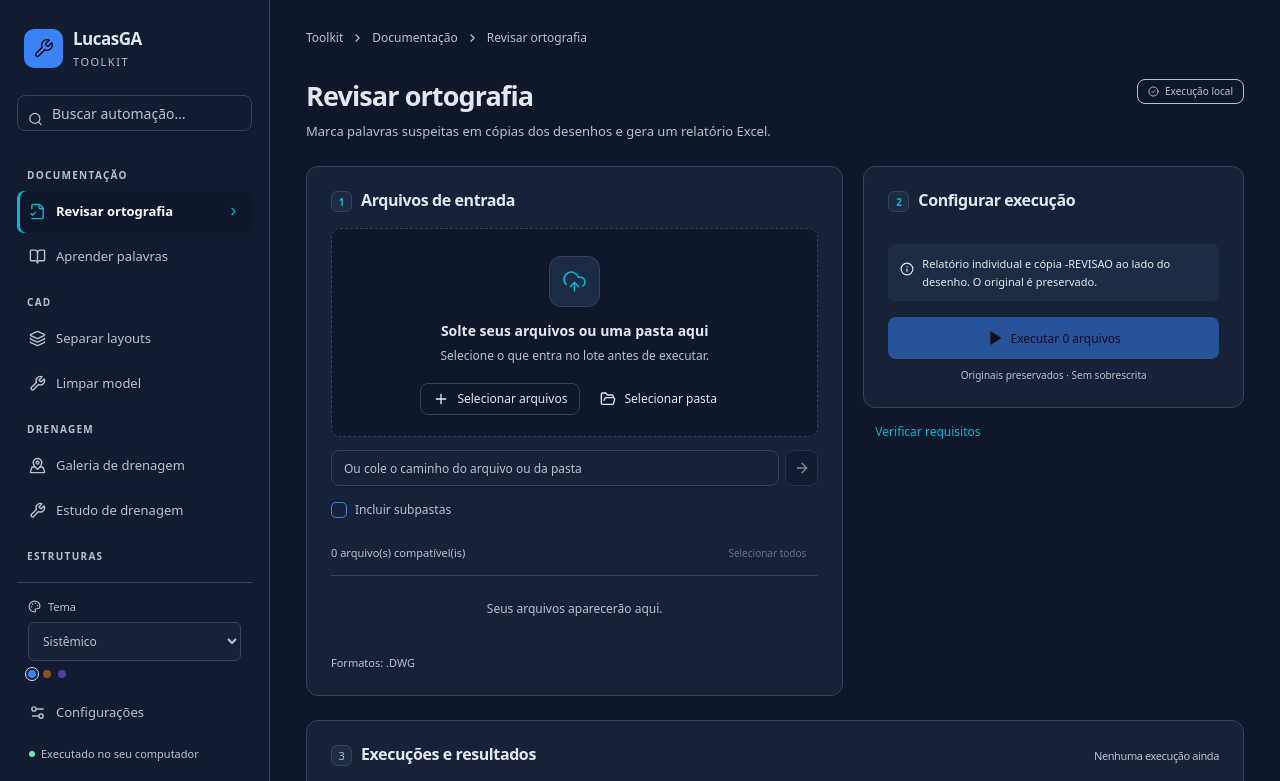
Scenario: pasta mostra compatíveis, permite escolher e envia somente a seleção
Click the button "Selecionar pasta". click: (659, 399)
box: x1=588 y1=383 x2=729 y2=415
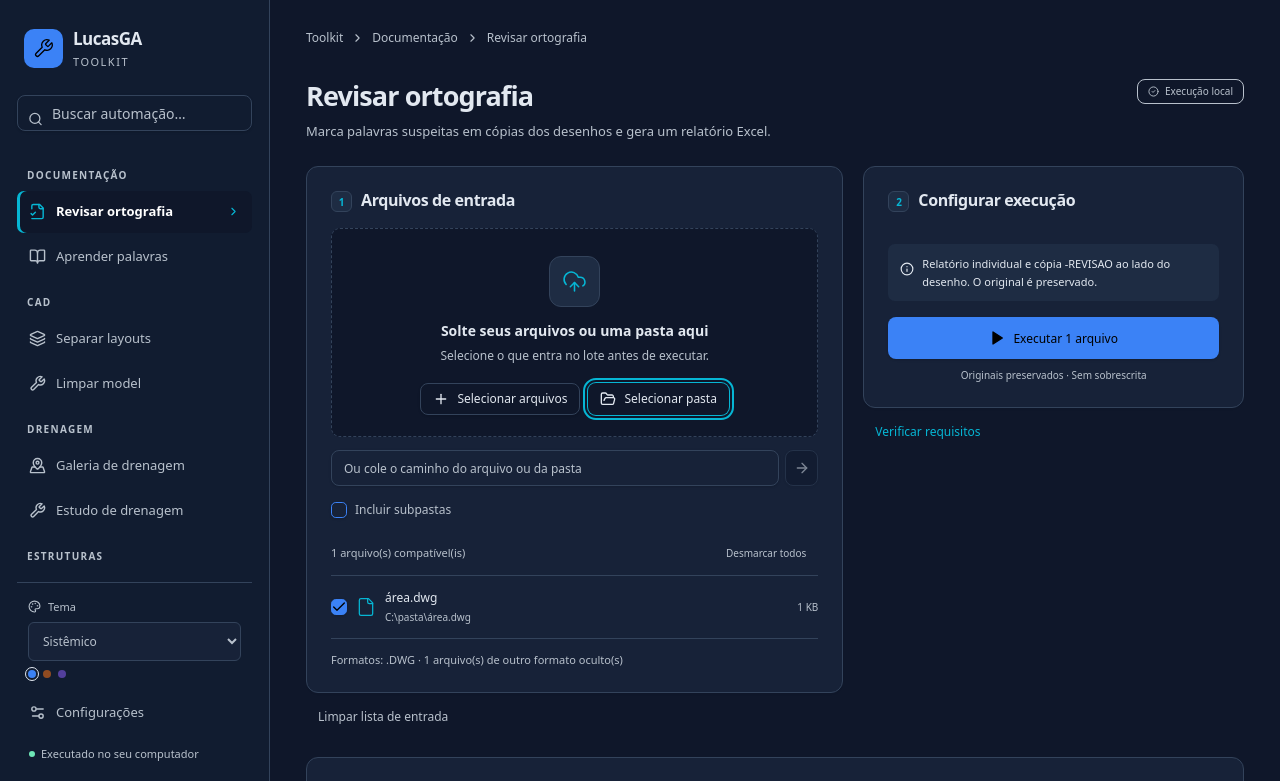
expect the text "área.dwg" is shown: met, box x1=385 y1=589 x2=437 y2=606
Select "Criativo" in the dropdown labelled "Tema". click: (134, 642)
box: x1=28 y1=622 x2=241 y2=661
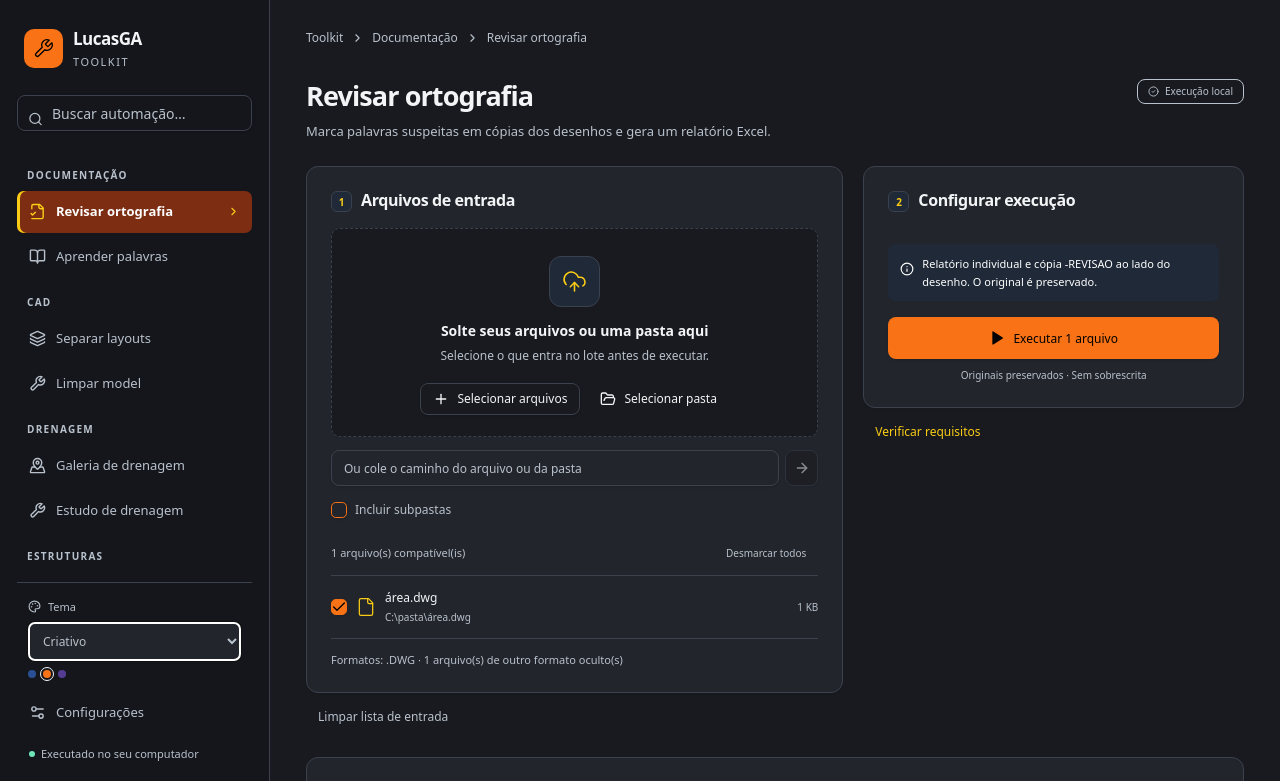
expect the text "área.dwg" is shown: met, box x1=385 y1=589 x2=437 y2=606
Click the button "Executar 1 arquivo". click: (1054, 338)
box: x1=888 y1=317 x2=1219 y2=359
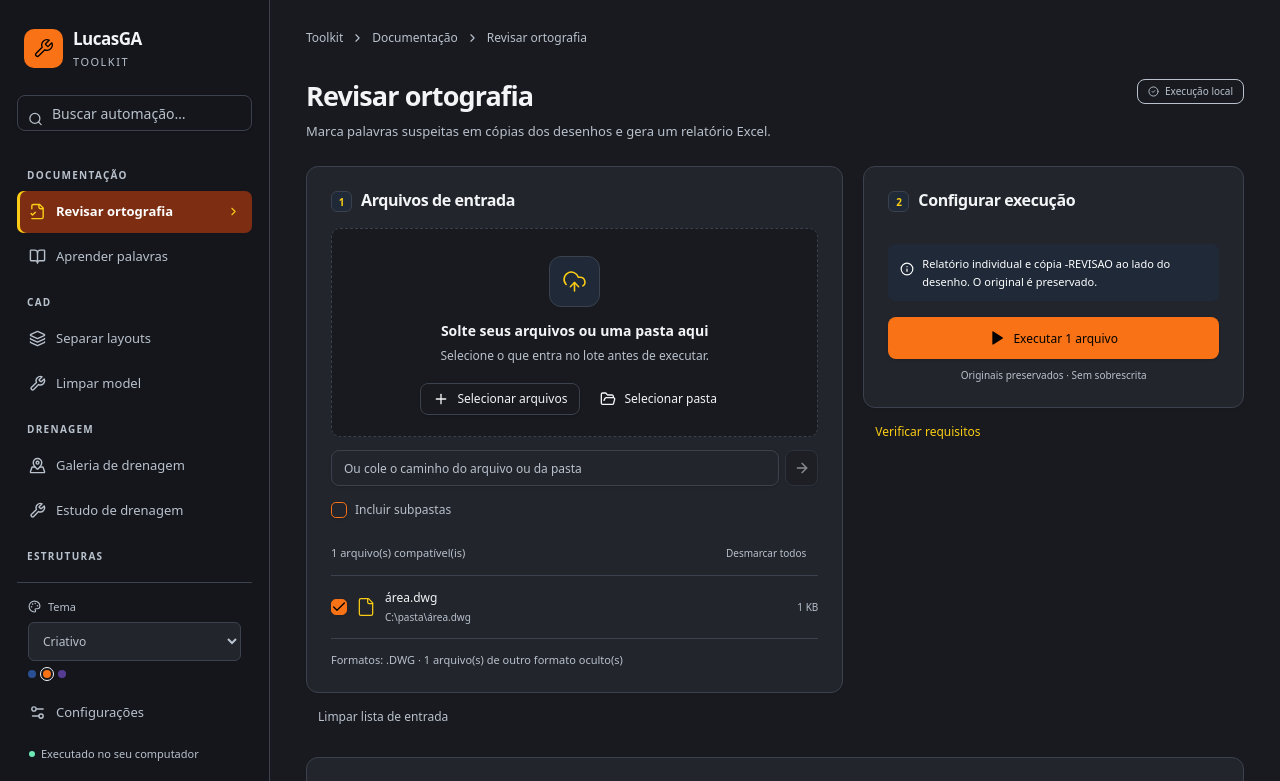
Click the checkbox named "Selecionar área.dwg". click: (339, 607)
box: x1=331 y1=599 x2=347 y2=615
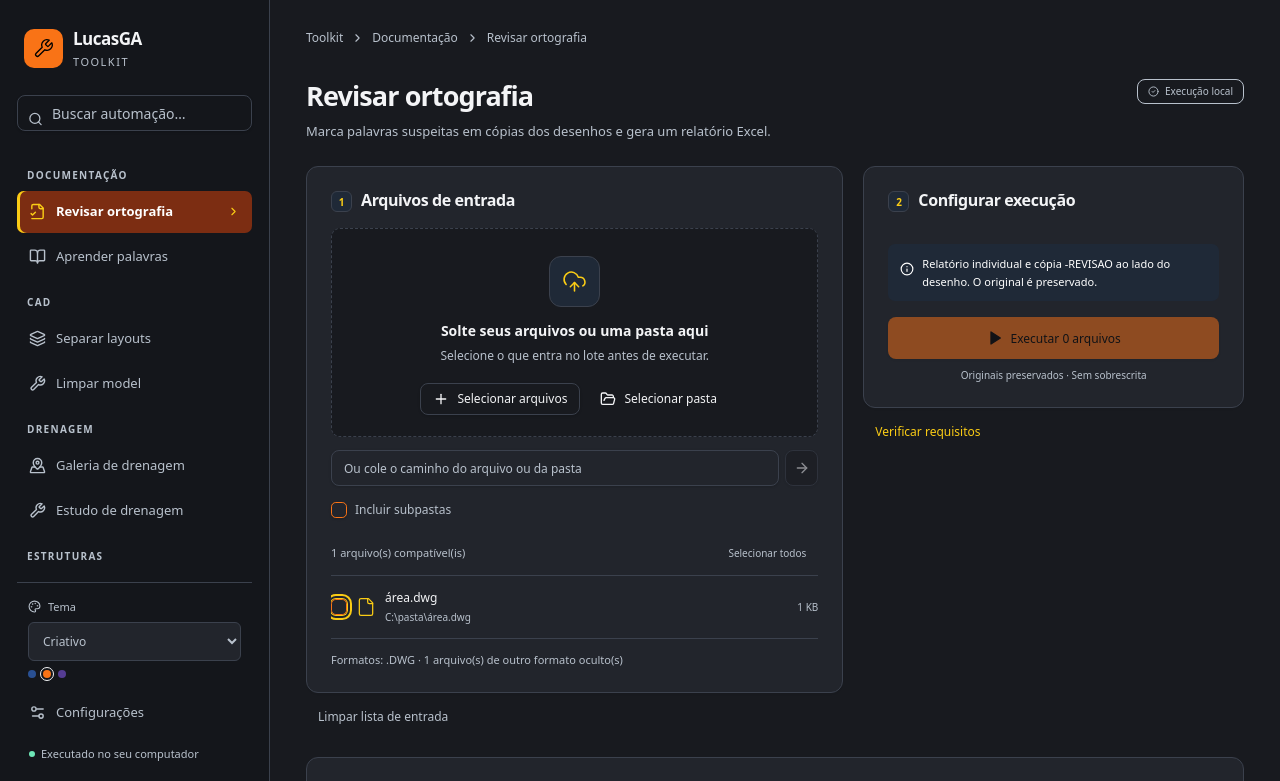
expect the button "Executar 0 arquivos" is disabled: met, box x1=888 y1=317 x2=1219 y2=359
